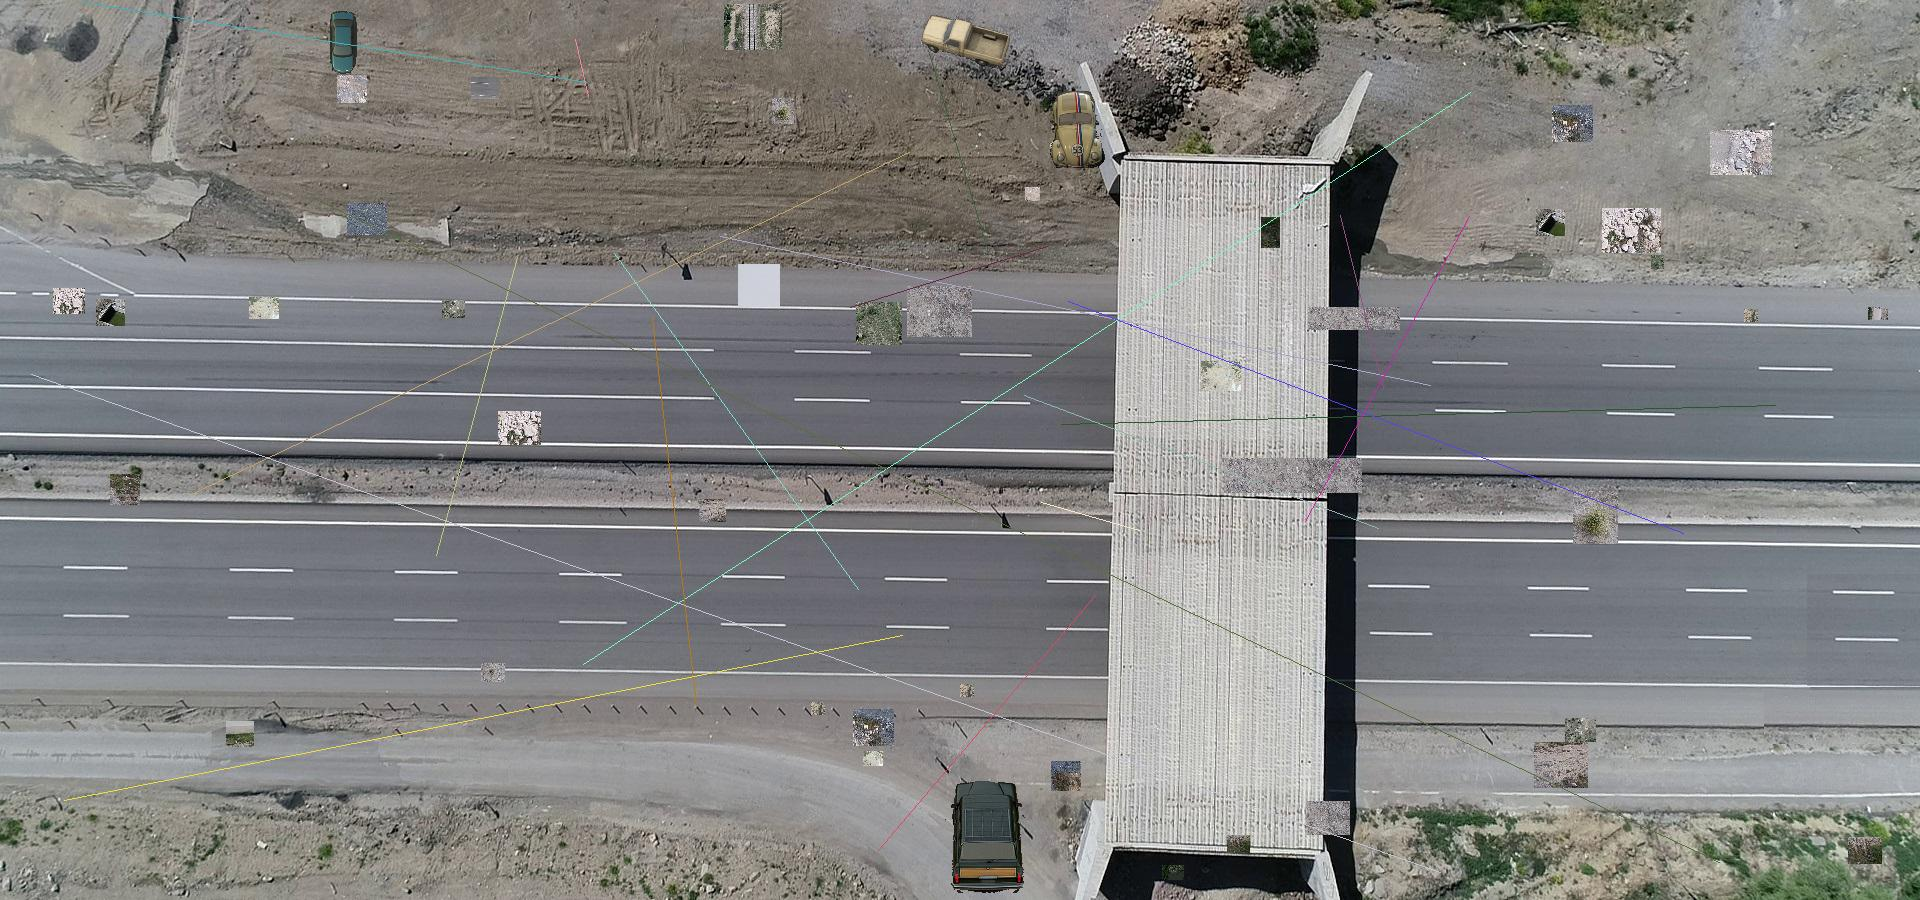arac: (945, 781, 1026, 893), (921, 13, 1010, 70), (1051, 91, 1106, 168), (329, 10, 359, 76)
